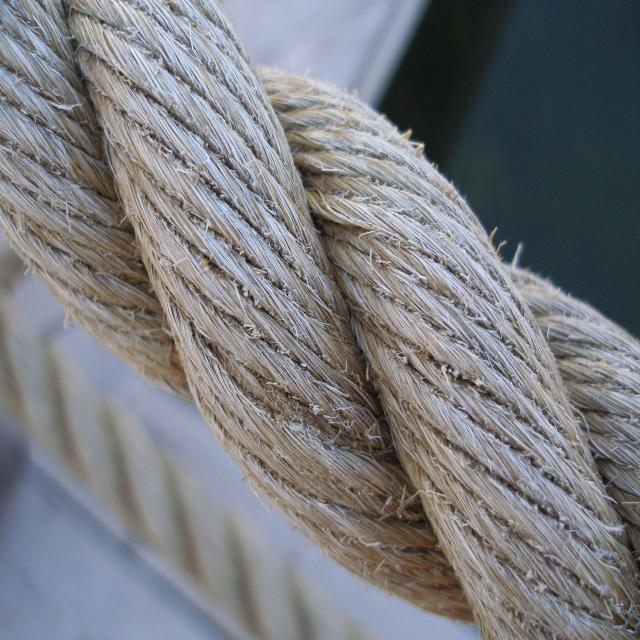Rope: (2, 0, 640, 636)
